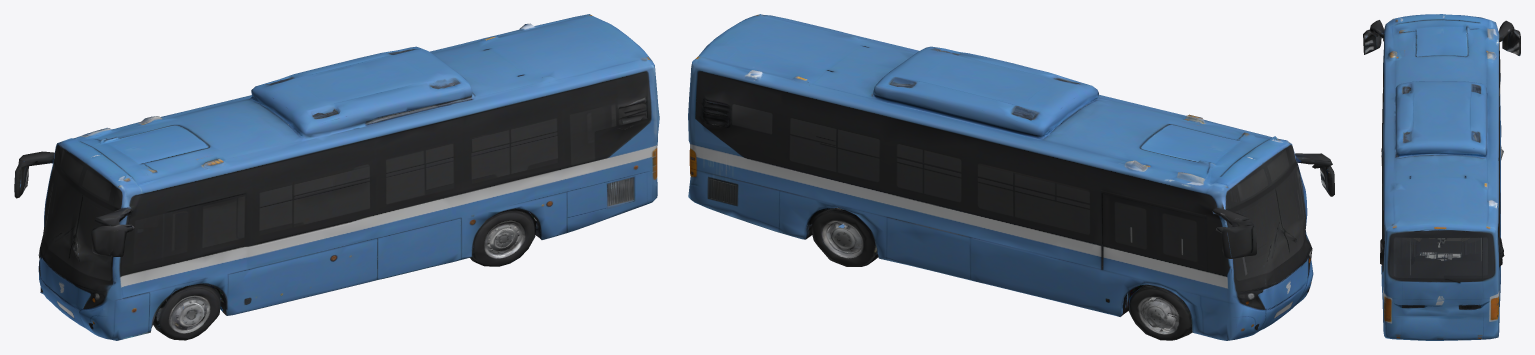
Rendered from Urban City Bus2.fbx.
3 renders of one model, left to right at view 1: azimuth 30°, elevation 25°; view 2: azimuth 150°, elevation 25°; view 3: azimuth 270°, elevation 25°, orthographic. The views are drawn at different scales.
Visible parts, largest first — view 1: Urban City Bus2; view 2: Urban City Bus2; view 3: Urban City Bus2.
Boxes of the visible parts, <box> form: Urban City Bus2: <box>14,14,659,340</box>; Urban City Bus2: <box>688,14,1334,340</box>; Urban City Bus2: <box>1363,14,1520,340</box>.
Size of the model in its own units: 962 by 300 by 285.
Materials: 1 (1 with a texture image).
